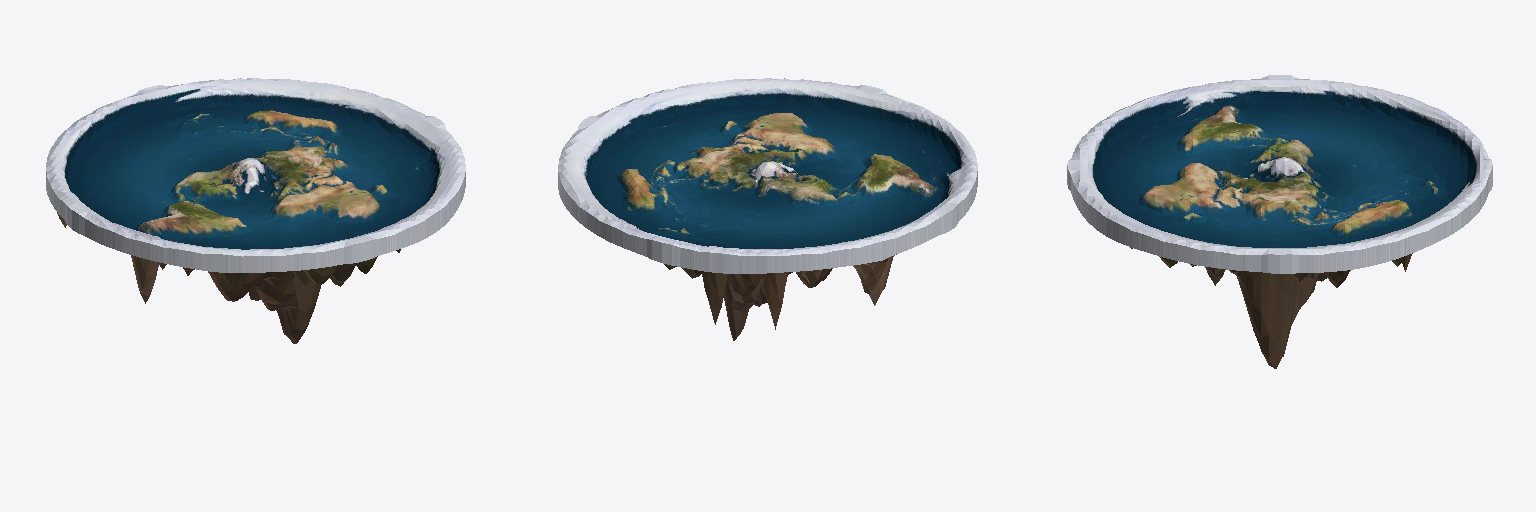
3 renders of one model, left to right at view 1: azimuth 30°, elevation 25°; view 2: azimuth 150°, elevation 25°; view 3: azimuth 270°, elevation 25°, orthographic.
Visible parts, largest first — view 1: Plane; view 2: Plane; view 3: Plane.
Boxes of the visible parts, x1,y1,x2,y2 form: Plane: [46, 78, 465, 343]; Plane: [558, 78, 977, 340]; Plane: [1067, 75, 1492, 368].
Size of the model in its own units: 2.04 by 1.01 by 2.04.
Materials: 1 (1 with a texture image).